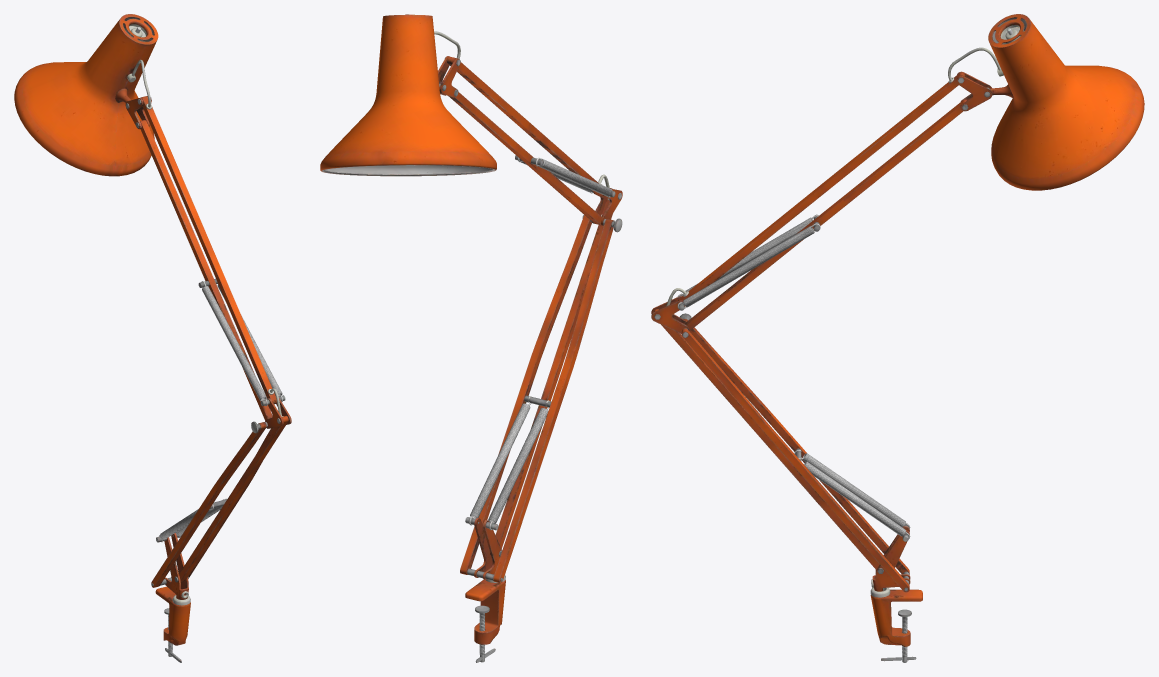
The model's file is desk-lamp-arm-medium.glb.
3 views of the same model, side by side, from view 1: azimuth 30°, elevation 25°; view 2: azimuth 150°, elevation 25°; view 3: azimuth 270°, elevation 25° (orthographic). The views are drawn at different scales.
Visible parts, largest first — view 1: desk_lamp_arm_01; view 2: desk_lamp_arm_01; view 3: desk_lamp_arm_01.
Part boxes in pixels (bbox=[...]): desk_lamp_arm_01: bbox=[14, 14, 291, 662]; desk_lamp_arm_01: bbox=[320, 14, 622, 662]; desk_lamp_arm_01: bbox=[651, 14, 1144, 662].
Size of the model in its own units: 0.2018 by 0.8926 by 0.6139.
2 materials, 2 textured.
